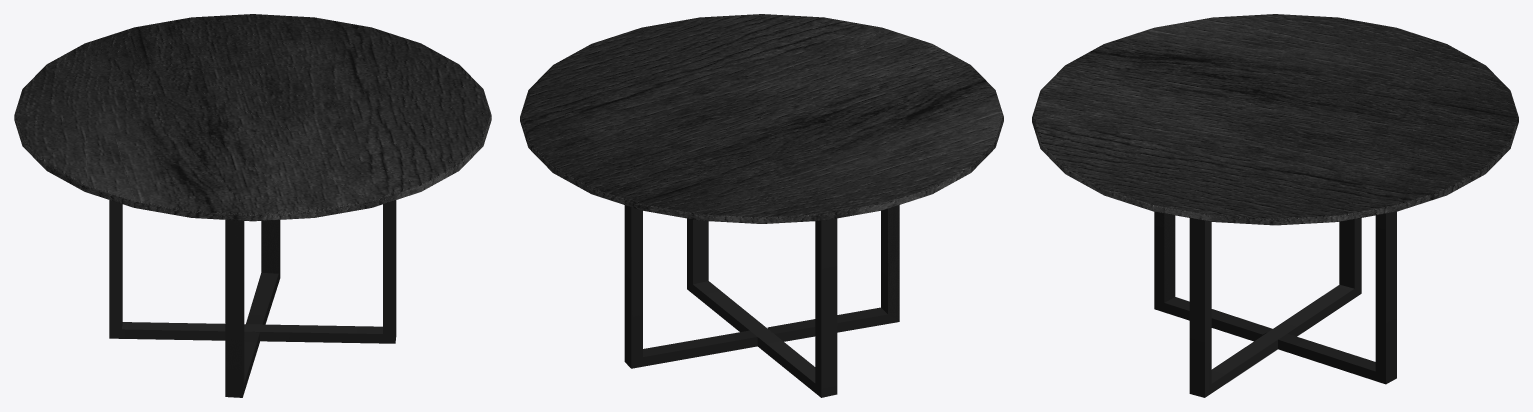
Rendered from SmallCircleTable.fbx.
3 renders of one model, left to right at view 1: azimuth 30°, elevation 25°; view 2: azimuth 150°, elevation 25°; view 3: azimuth 270°, elevation 25°, orthographic.
Visible parts, largest first — view 1: Small Circle Table; view 2: Small Circle Table; view 3: Small Circle Table.
Part boxes in pixels (x1,y1,x2,y2): Small Circle Table: (14,14,491,397); Small Circle Table: (520,14,1003,397); Small Circle Table: (1032,14,1518,397).
Size of the model in its own units: 100 by 51.83 by 100.
Materials: 1 (1 with a texture image).
